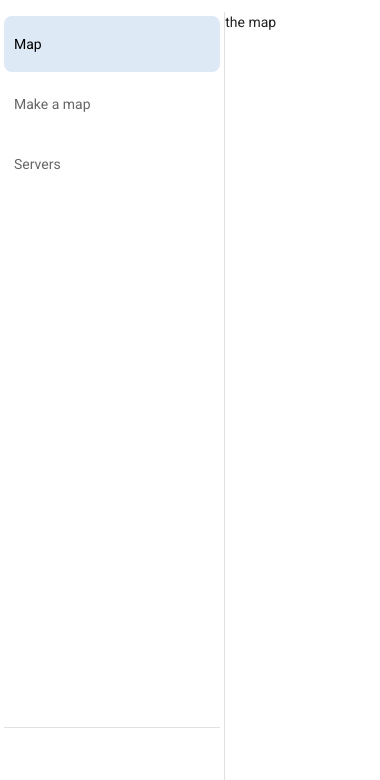
Test: the app.tabBar wrapper around the whole strip does not collide with a tab's own menu › opens exactly one menu on an ordinary right-click on a tab, with the working shortcut shown
The width and height of the screenshot is (380, 780).
Right-click the tab "Map": (112, 44) left=4, top=16, right=220, bottom=72
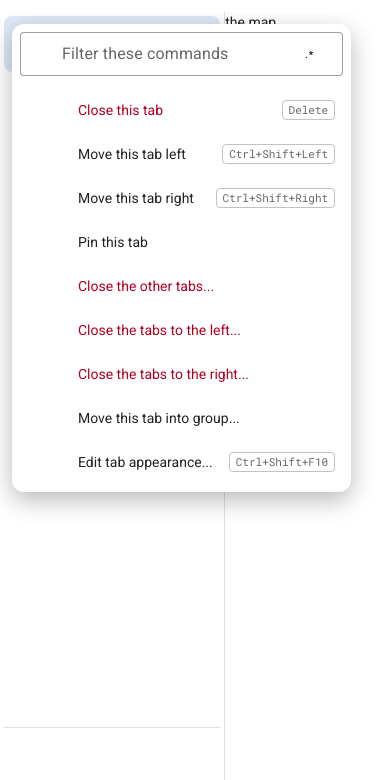
Expected: the number of elements with class "mb-tabs-menu" is 1, left=12, top=32, right=351, bottom=492
Expected: the text "Edit tab appearance..." is shown, left=78, top=454, right=213, bottom=470
Expected: the text with class "mb-tabs-menu__keys" reads "Ctrl+Shift+F10", left=236, top=454, right=328, bottom=469
